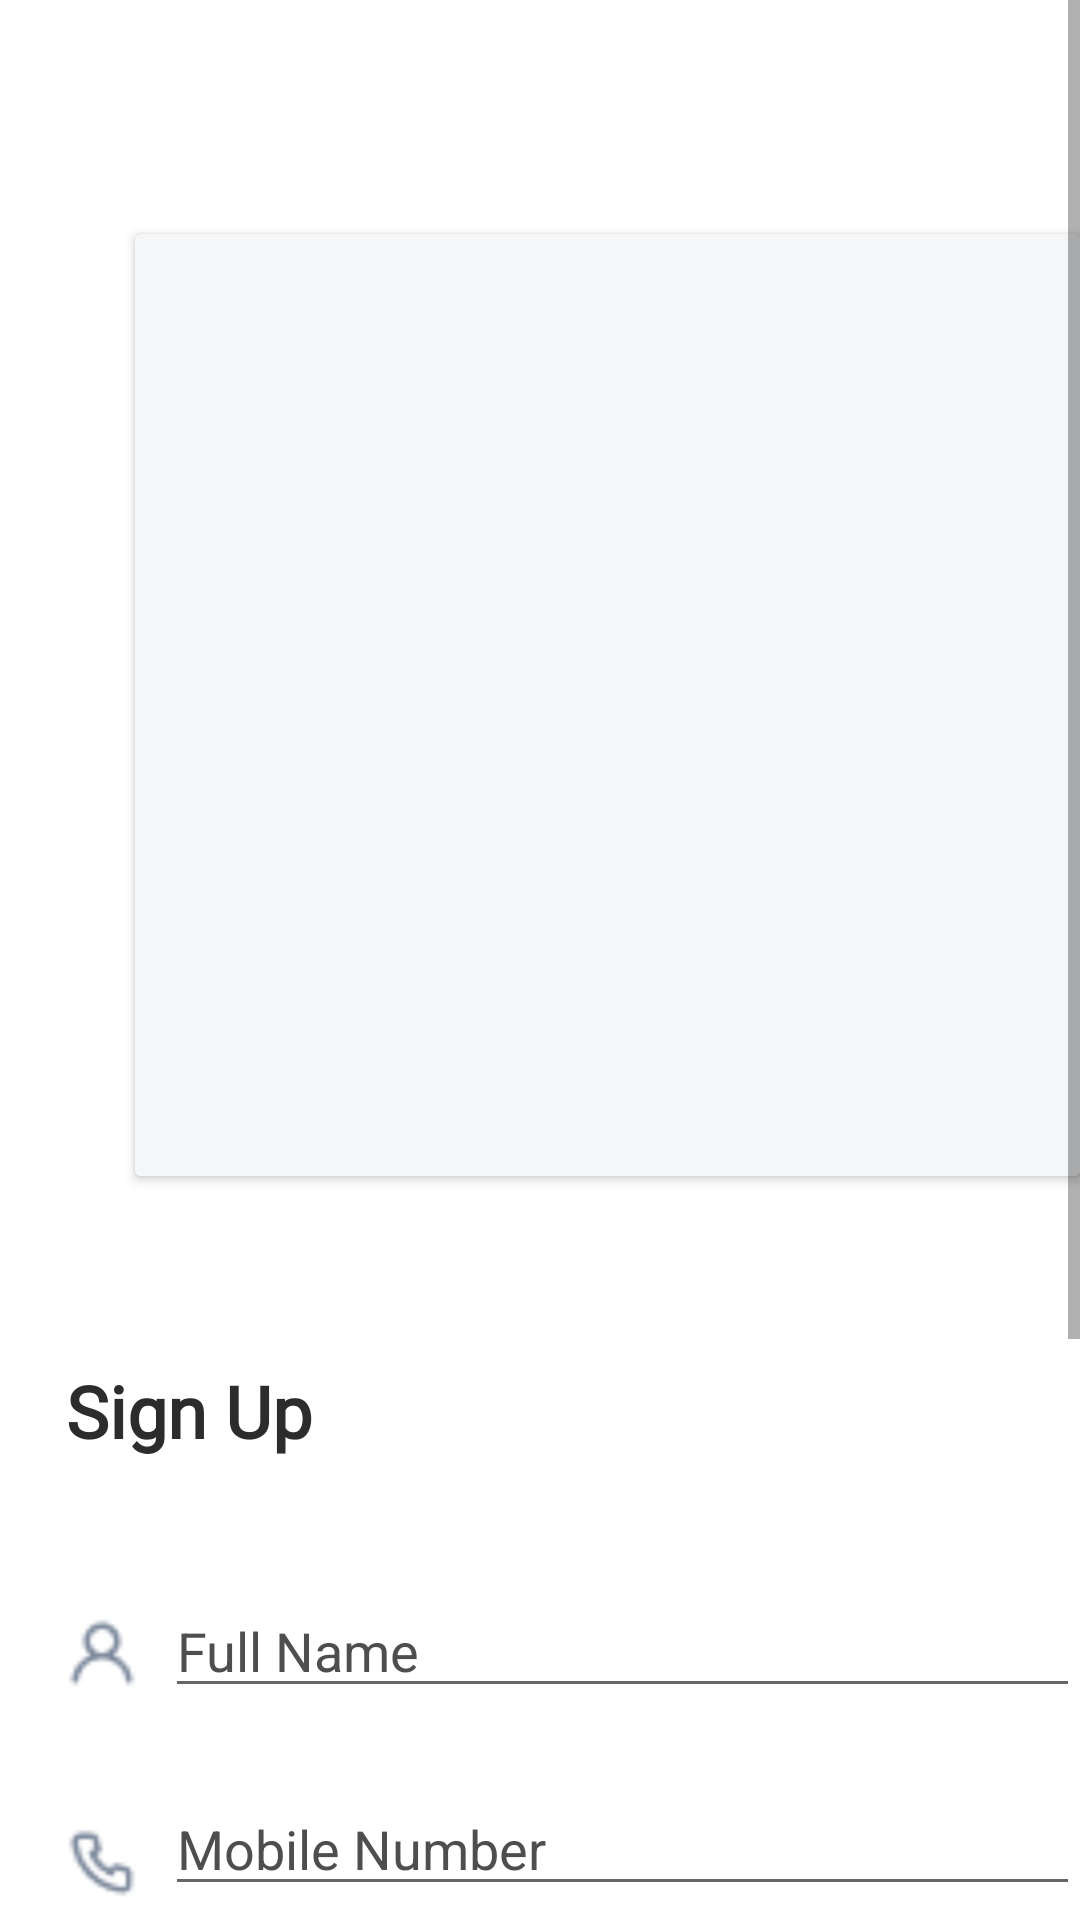

Where icons sit on this 1080w x 1920h app screen, as box=[x1, y1, x2, y2]:
account: box=[70, 1621, 134, 1685]
call: box=[69, 1830, 134, 1895]
